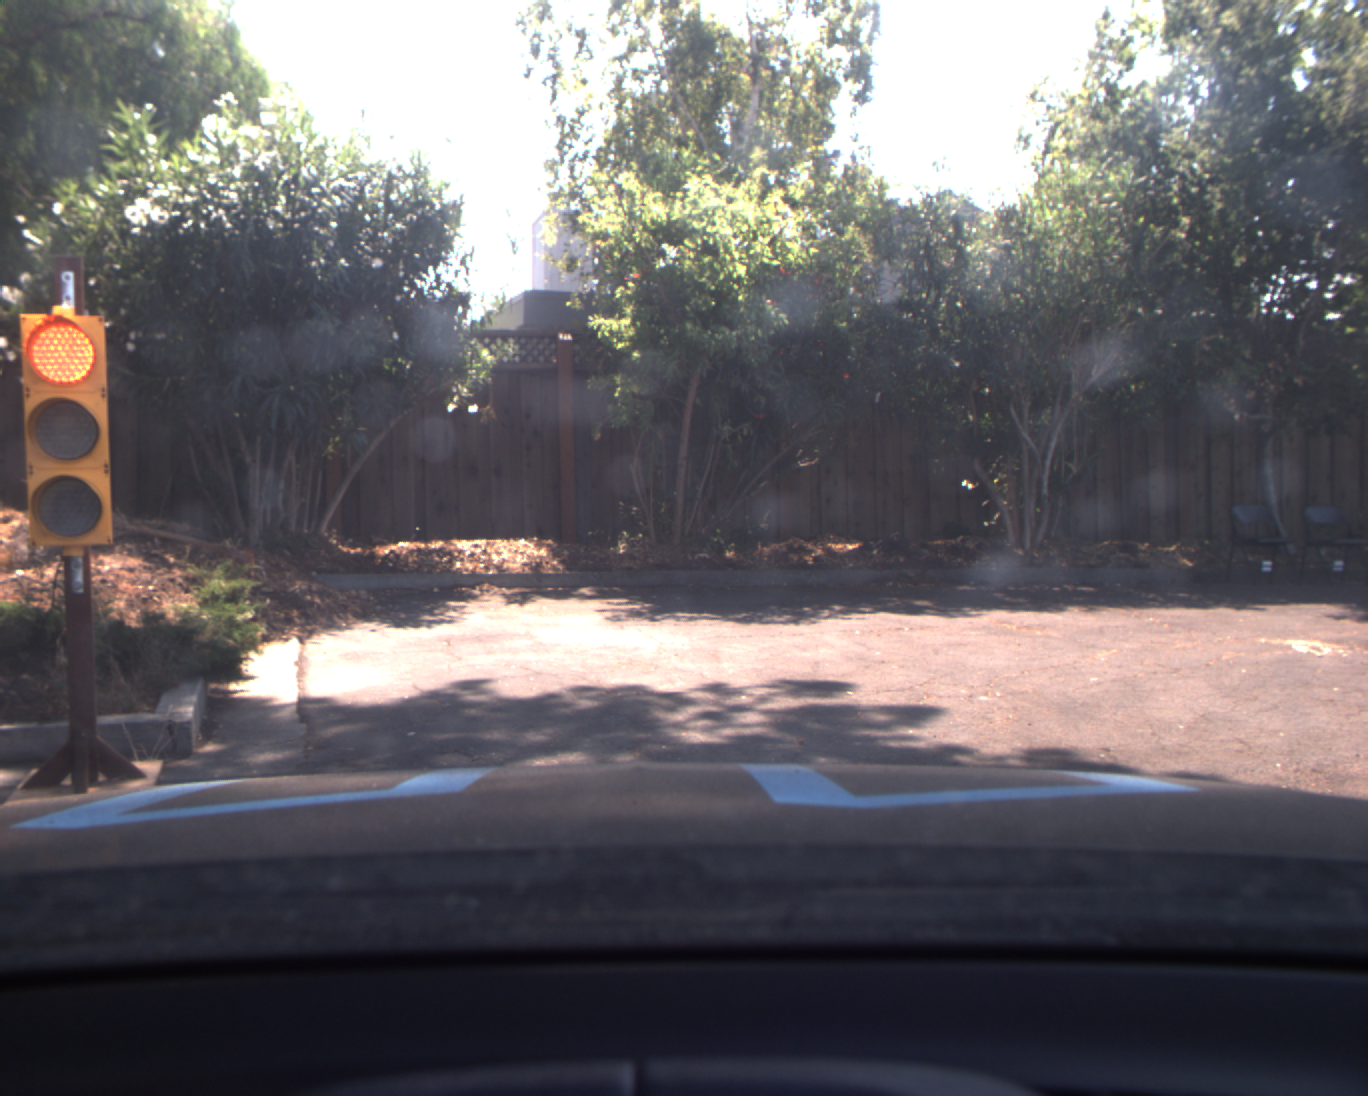red: (20, 309, 115, 546)
